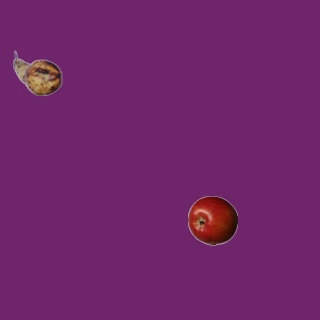Apple Braeburn: (187, 195, 237, 245)
Pear Abate: (12, 48, 62, 98)
